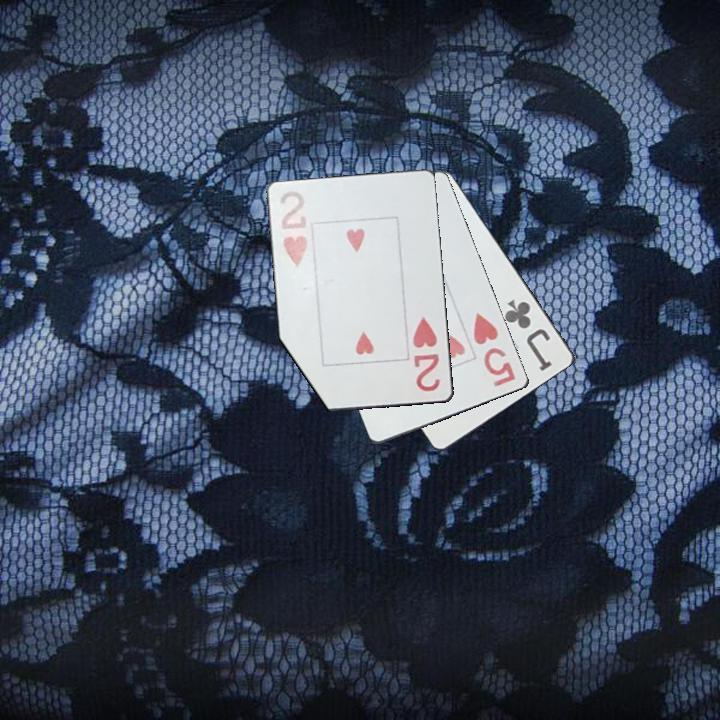2h: (277, 186, 312, 270), (410, 313, 443, 395)
5h: (470, 309, 519, 390)
Jc: (501, 295, 556, 374)
